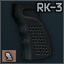AK Zenit RK-3 pistol grip: (0, 0, 64, 64)
